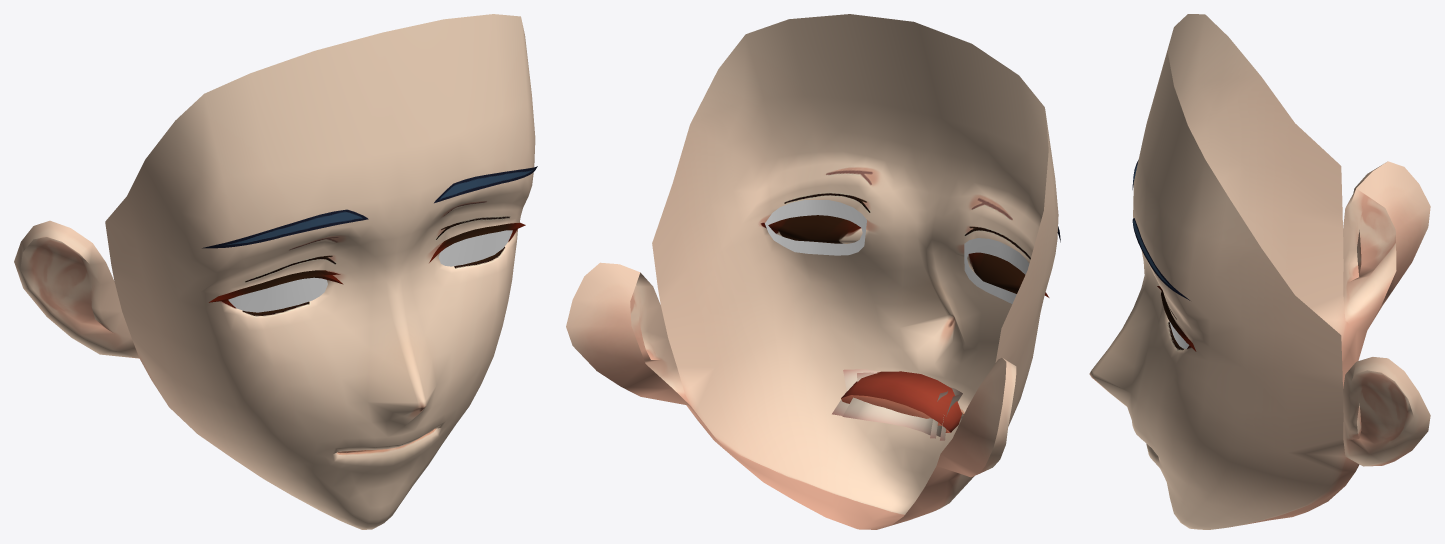
Rendered from Tsumugi.fbx.
3 renders of one model, left to right at view 1: azimuth 30°, elevation 25°; view 2: azimuth 150°, elevation 25°; view 3: azimuth 270°, elevation 25°, orthographic. The views are drawn at different scales.
Parts seen in each view (by area): view 1: M_Head, M_Eye_B_Def, M_Mth_B_Def, M_Brw_B_Def, M_PupALL_R_A_Def, M_PupALL_L_A_Def; view 2: M_Head, M_Eye_B_Def, M_Mth_B_Def, M_PupALL_L_A_Def, M_PupALL_R_A_Def; view 3: M_Head, M_Eye_B_Def, M_Mth_B_Def, M_Brw_B_Def.
Part boxes in pixels (x1,y1,x2,y2): M_Head: (14, 14, 535, 395); M_Eye_B_Def: (164, 139, 535, 411); M_Mth_B_Def: (140, 356, 493, 529); M_Brw_B_Def: (202, 166, 537, 248); M_PupALL_R_A_Def: (228, 277, 327, 312); M_PupALL_L_A_Def: (438, 230, 512, 266); M_Head: (566, 14, 1058, 477); M_Eye_B_Def: (708, 129, 1058, 412); M_Mth_B_Def: (684, 317, 1020, 529); M_PupALL_L_A_Def: (765, 200, 866, 255); M_PupALL_R_A_Def: (964, 238, 1029, 303); M_Head: (1133, 14, 1430, 466); M_Eye_B_Def: (1089, 118, 1245, 449); M_Mth_B_Def: (1090, 319, 1366, 529); M_Brw_B_Def: (1132, 160, 1190, 300).
Size of the model in its own units: 0.1645 by 0.172 by 0.1119.
5 materials, 3 textured.
